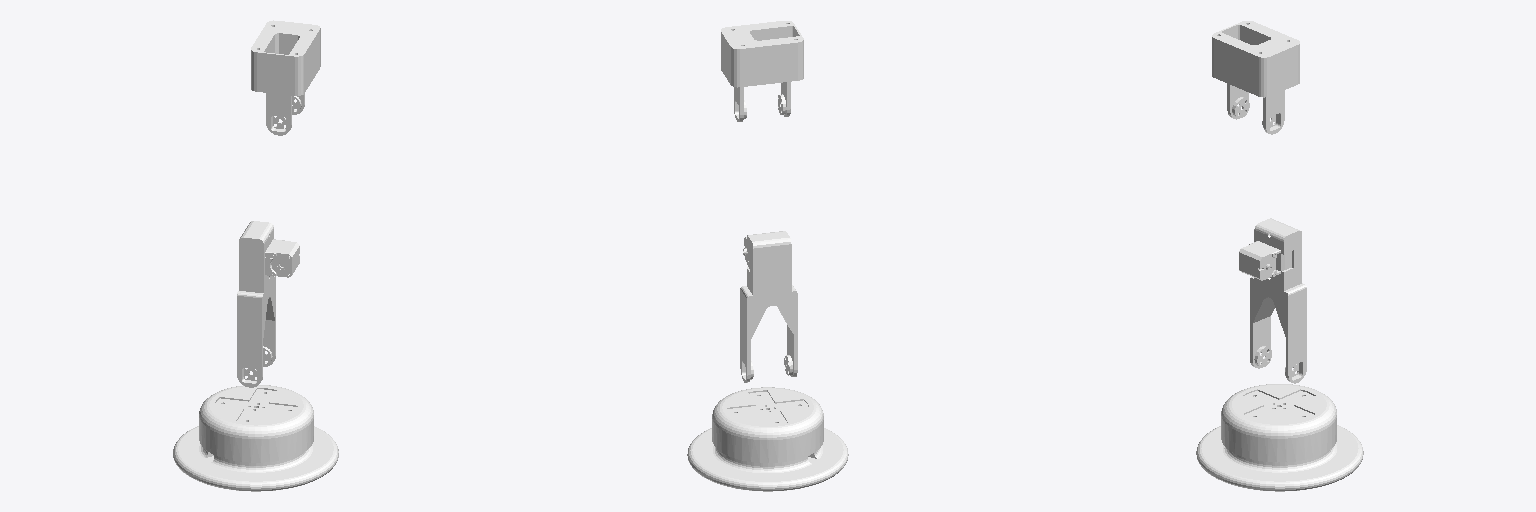
URDF robot description (finalAssem.SLDASM):
<?xml version="1.0" encoding="utf-8"?>
<!-- This URDF was automatically created by SolidWorks to URDF Exporter! Originally created by Stephen Brawner (brawner@gmail.com) 
     Commit Version: 1.6.0-1-g15f4949  Build Version: 1.6.7594.29634
     For more information, please see http://wiki.ros.org/sw_urdf_exporter -->
<robot
  name="finalAssem.SLDASM">
  <link
    name="base_link">
    <inertial>
      <origin
        xyz="0.04017 0.036228 0.089961"
        rpy="0 0 0" />
      <mass
        value="0.47301" />
      <inertia
        ixx="0.00060925"
        ixy="-6.5656E-06"
        ixz="-2.5475E-09"
        iyy="0.00099286"
        iyz="2.1203E-09"
        izz="0.00059369" />
    </inertial>
    <visual>
      <origin
        xyz="0 0 0"
        rpy="0 0 0" />
      <geometry>
        <mesh
          filename="package://finalAssem.SLDASM/meshes/base_link.STL" />
      </geometry>
      <material
        name="">
        <color
          rgba="1 1 1 1" />
      </material>
    </visual>
    <collision>
      <origin
        xyz="0 0 0"
        rpy="0 0 0" />
      <geometry>
        <mesh
          filename="package://finalAssem.SLDASM/meshes/base_link.STL" />
      </geometry>
    </collision>
  </link>
  <link
    name="Link1">
    <inertial>
      <origin
        xyz="0 0 0.021148"
        rpy="0 0 0" />
      <mass
        value="0.078819" />
      <inertia
        ixx="0.00010458"
        ixy="0"
        ixz="-5.3187E-21"
        iyy="0.00010458"
        iyz="-1.4648E-20"
        izz="0.00019044" />
    </inertial>
    <visual>
      <origin
        xyz="0 0 0"
        rpy="0 0 0" />
      <geometry>
        <mesh
          filename="package://finalAssem.SLDASM/meshes/Link1.STL" />
      </geometry>
      <material
        name="">
        <color
          rgba="1 1 1 1" />
      </material>
    </visual>
    <collision>
      <origin
        xyz="0 0 0"
        rpy="0 0 0" />
      <geometry>
        <mesh
          filename="package://finalAssem.SLDASM/meshes/Link1.STL" />
      </geometry>
    </collision>
  </link>
  <joint
    name="Joint1"
    type="revolute">
    <origin
      xyz="0.039158 -0.09063 0.038393"
      rpy="0 0 0.78837" />
    <parent
      link="base_link" />
    <child
      link="Link1" />
    <axis
      xyz="0 0 0" />
    <limit
      lower="0"
      upper="0"
      effort="0"
      velocity="0" />
  </joint>
  <link
    name="Link2">
    <inertial>
      <origin
        xyz="0.049091 0.01203 -0.022092"
        rpy="0 0 0" />
      <mass
        value="0.089999" />
      <inertia
        ixx="2.8107E-05"
        ixy="-1.8894E-06"
        ixz="3.2642E-07"
        iyy="0.0001335"
        iyz="-9.2084E-08"
        izz="0.00011537" />
    </inertial>
    <visual>
      <origin
        xyz="0 0 0"
        rpy="0 0 0" />
      <geometry>
        <mesh
          filename="package://finalAssem.SLDASM/meshes/Link2.STL" />
      </geometry>
      <material
        name="">
        <color
          rgba="1 1 1 1" />
      </material>
    </visual>
    <collision>
      <origin
        xyz="0 0 0"
        rpy="0 0 0" />
      <geometry>
        <mesh
          filename="package://finalAssem.SLDASM/meshes/Link2.STL" />
      </geometry>
    </collision>
  </link>
  <joint
    name="Joint2"
    type="revolute">
    <origin
      xyz="-0.023218 0.012518 0.21186"
      rpy="3.1416 1.5708 0" />
    <parent
      link="Link1" />
    <child
      link="Link2" />
    <axis
      xyz="0 0 0" />
    <limit
      lower="0"
      upper="0"
      effort="0"
      velocity="0" />
  </joint>
  <link
    name="Link3">
    <inertial>
      <origin
        xyz="0.042349 0.012701 -0.022133"
        rpy="0 0 0" />
      <mass
        value="0.10792" />
      <inertia
        ixx="3.8564E-05"
        ixy="2.0743E-08"
        ixz="4.1708E-07"
        iyy="0.00015487"
        iyz="6.9966E-10"
        izz="0.00014301" />
    </inertial>
    <visual>
      <origin
        xyz="0 0 0"
        rpy="0 0 0" />
      <geometry>
        <mesh
          filename="package://finalAssem.SLDASM/meshes/Link3.STL" />
      </geometry>
      <material
        name="">
        <color
          rgba="1 1 1 1" />
      </material>
    </visual>
    <collision>
      <origin
        xyz="0 0 0"
        rpy="0 0 0" />
      <geometry>
        <mesh
          filename="package://finalAssem.SLDASM/meshes/Link3.STL" />
      </geometry>
    </collision>
  </link>
  <joint
    name="Joint3"
    type="revolute">
    <origin
      xyz="-0.11579 0.029138 0.00049896"
      rpy="0 0 0" />
    <parent
      link="Link2" />
    <child
      link="Link3" />
    <axis
      xyz="0 0 0" />
    <limit
      lower="0"
      upper="0"
      effort="0"
      velocity="0" />
  </joint>
  <link
    name="Link4">
    <inertial>
      <origin
        xyz="0.079969 0.012699 -0.019217"
        rpy="0 0 0" />
      <mass
        value="0.14858" />
      <inertia
        ixx="0.00010827"
        ixy="6.8754E-09"
        ixz="4.5551E-06"
        iyy="0.0001079"
        iyz="3.3593E-10"
        izz="7.5944E-05" />
    </inertial>
    <visual>
      <origin
        xyz="0 0 0"
        rpy="0 0 0" />
      <geometry>
        <mesh
          filename="package://finalAssem.SLDASM/meshes/Link4.STL" />
      </geometry>
      <material
        name="">
        <color
          rgba="1 1 1 1" />
      </material>
    </visual>
    <collision>
      <origin
        xyz="0 0 0"
        rpy="0 0 0" />
      <geometry>
        <mesh
          filename="package://finalAssem.SLDASM/meshes/Link4.STL" />
      </geometry>
    </collision>
  </link>
  <joint
    name="Joint4"
    type="revolute">
    <origin
      xyz="-0.15595 0.025556 -0.043973"
      rpy="3.1416 0 0" />
    <parent
      link="Link3" />
    <child
      link="Link4" />
    <axis
      xyz="0 0 0" />
    <limit
      lower="0"
      upper="0"
      effort="0"
      velocity="0" />
  </joint>
</robot>

--- Facts derived from the render (not from the file) ---
The picture shows the robot from 3 angles, left to right: view 1: azimuth 30°, elevation 25°; view 2: azimuth 150°, elevation 25°; view 3: azimuth 270°, elevation 25°; orthographic projection.
Model finalAssem.SLDASM with 5 links and 4 joints (4 revolute), rooted at base_link, posed every joint at zero.
Visible links, largest first — view 1: Link1, Link2, Link4, base_link; view 2: Link1, Link4, Link2, base_link; view 3: Link1, Link2, Link4, base_link.
Boxes of the visible links, left/top/right/bottom form: Link1: left=199, top=385, right=313, bottom=462; Link2: left=237, top=221, right=299, bottom=387; Link4: left=251, top=20, right=320, bottom=135; base_link: left=173, top=407, right=338, bottom=491; Link1: left=712, top=387, right=823, bottom=462; Link4: left=721, top=21, right=803, bottom=121; Link2: left=740, top=231, right=797, bottom=382; base_link: left=687, top=409, right=848, bottom=491; Link1: left=1221, top=384, right=1336, bottom=462; Link2: left=1239, top=218, right=1306, bottom=383; Link4: left=1212, top=21, right=1299, bottom=134; base_link: left=1196, top=396, right=1363, bottom=491.
Bounding box of the posed robot: 0.1597 × 0.16 × 0.4506 m (x, y, z).
4 mesh visuals loaded from 5 distinct referenced files (4 binary STL); not drawn: 1 (reference not matched to a file when rendering).
